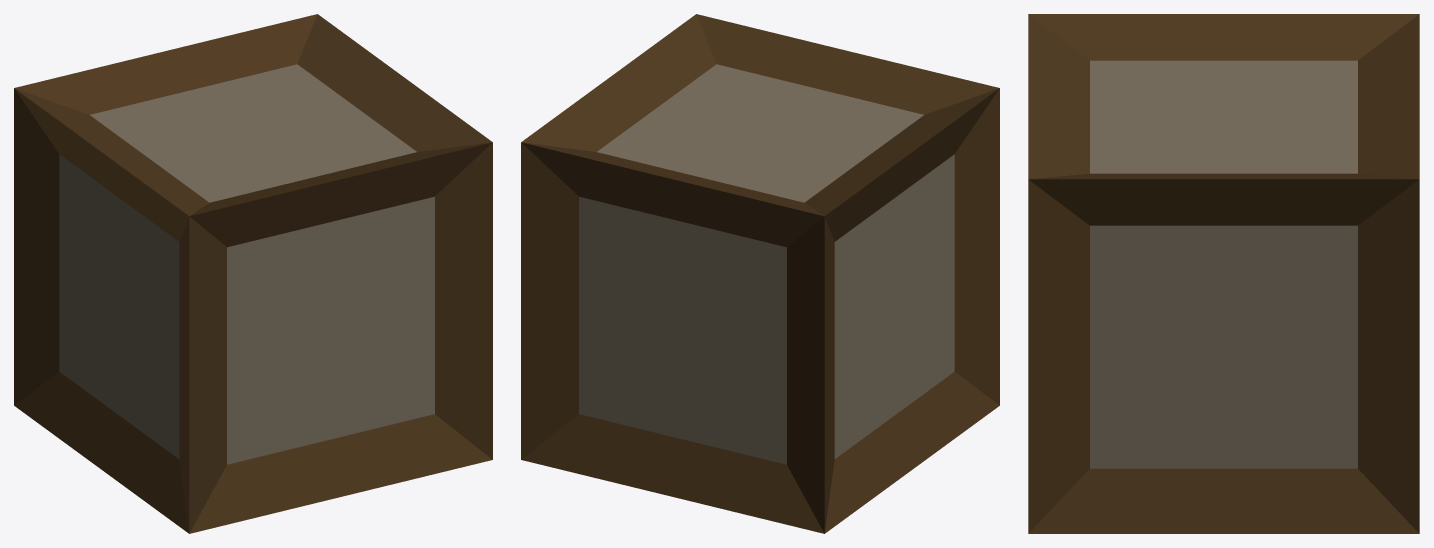
File: BoxLarge.fbx
The picture shows the model from 3 angles, left to right: view 1: azimuth 30°, elevation 25°; view 2: azimuth 150°, elevation 25°; view 3: azimuth 270°, elevation 25°; orthographic projection. The views are drawn at different scales.
Visible parts, largest first — view 1: BoxLarge; view 2: BoxLarge; view 3: BoxLarge.
Boxes of the visible parts, <box> form: BoxLarge: <box>14,14,492,533</box>; BoxLarge: <box>521,14,999,533</box>; BoxLarge: <box>1028,14,1419,533</box>.
Size of the model in its own units: 1 by 1 by 1.
